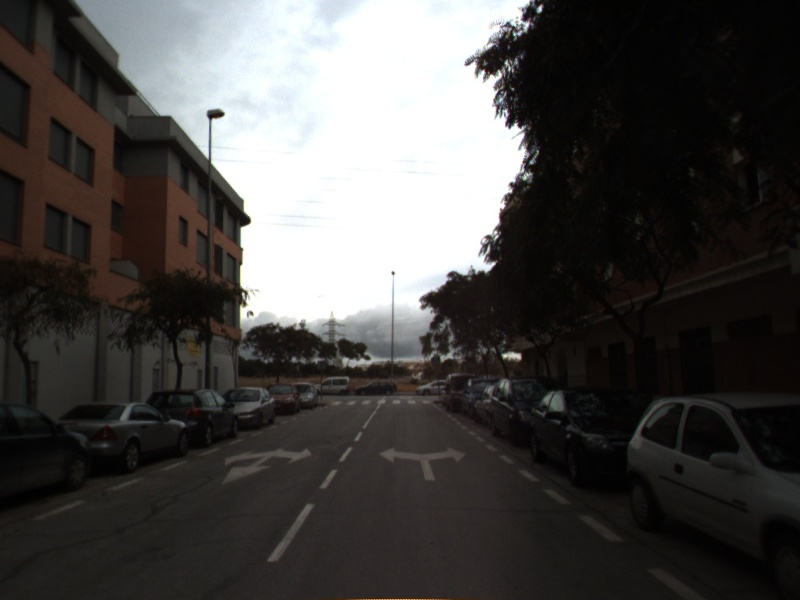LEFT_RIGHT: (377, 445, 468, 482)
